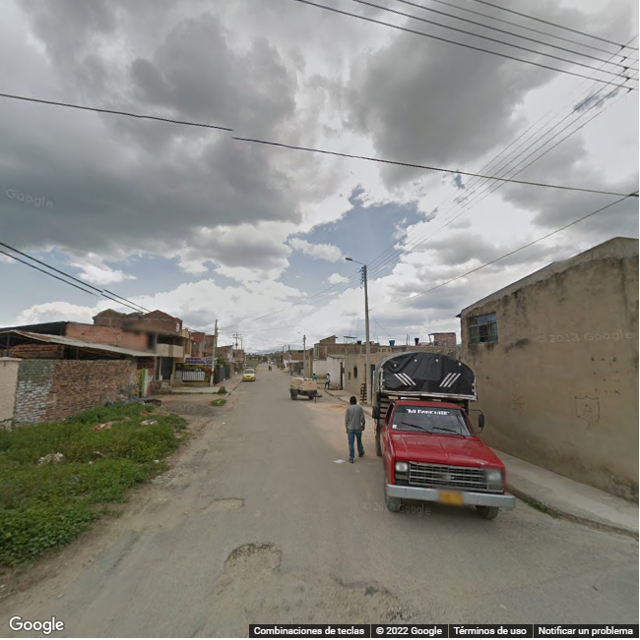D10: (492, 554, 635, 597)
D40: (221, 539, 284, 573), (205, 490, 249, 514)
